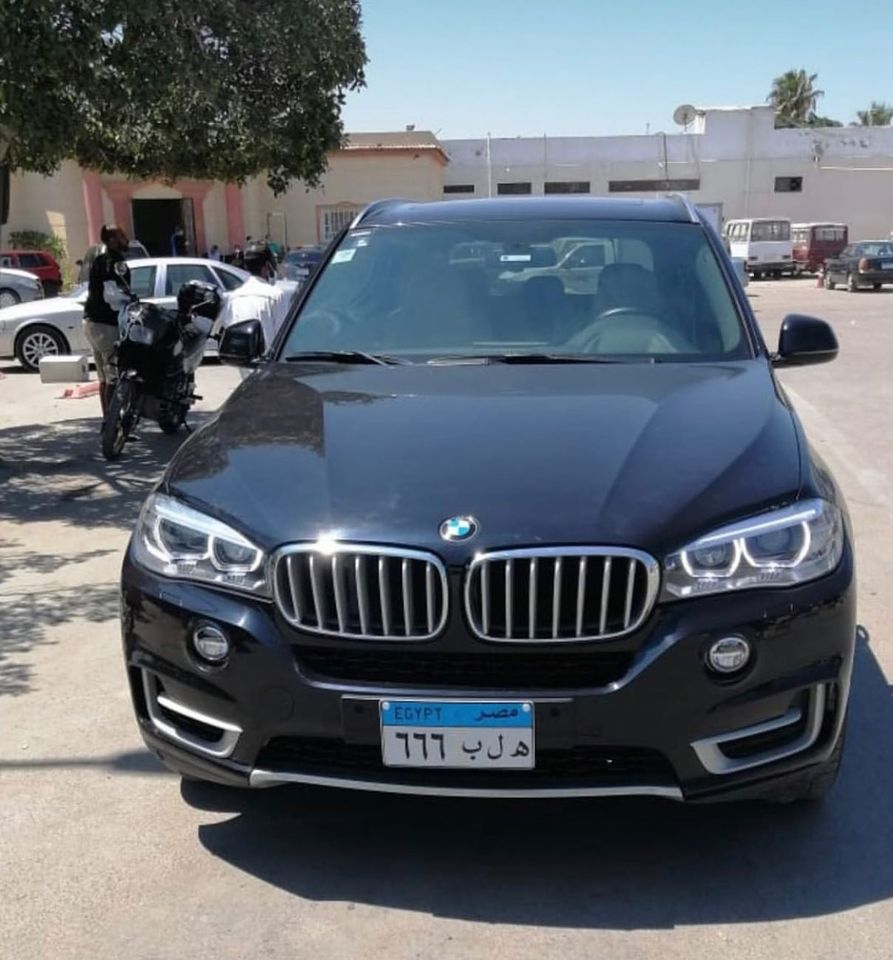carpl: (379, 708, 538, 767)
